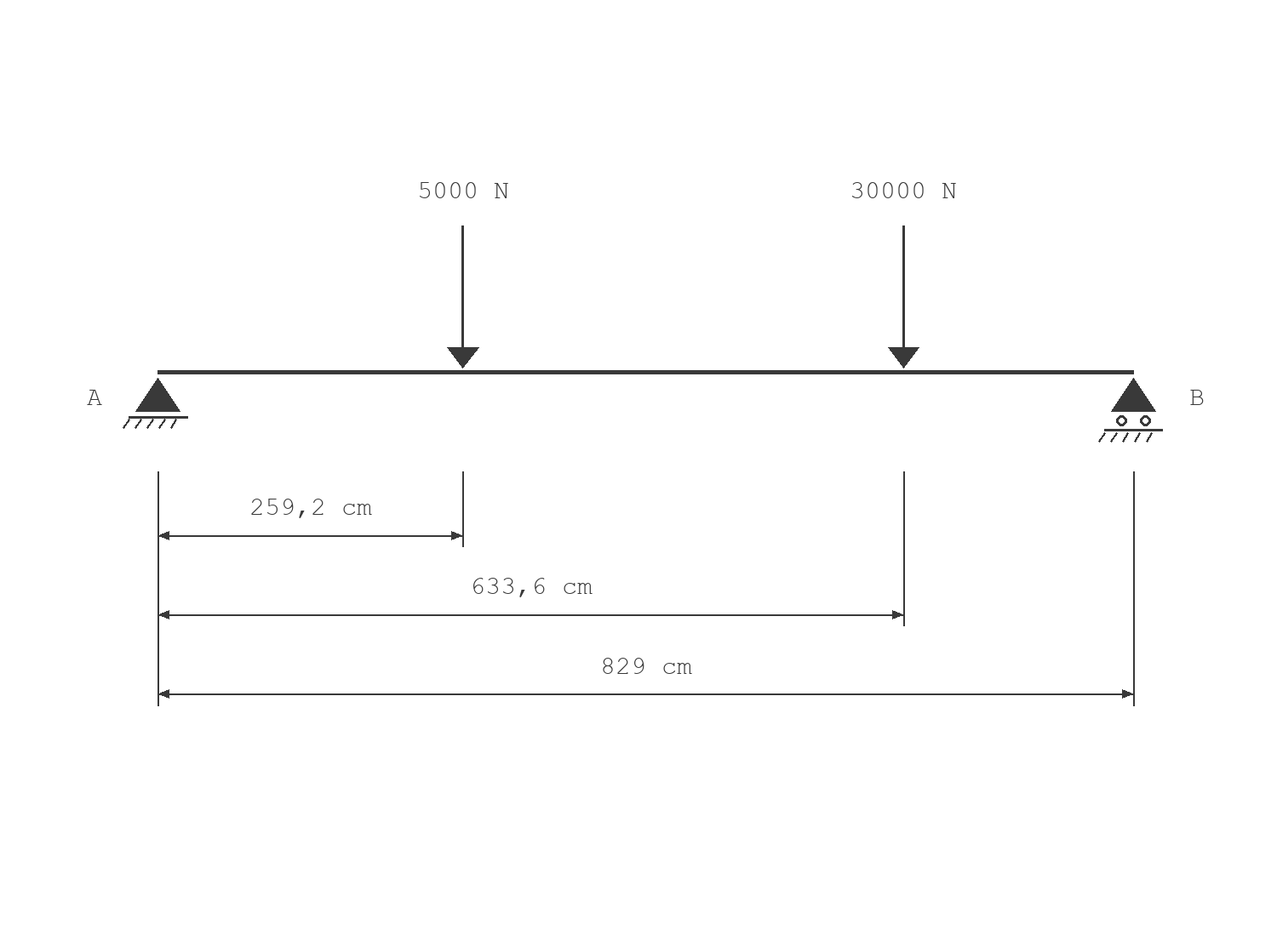pin_support: (123, 378, 188, 429)
point_load: (447, 225, 479, 368), (888, 225, 919, 368)
roller_support: (1098, 378, 1163, 442)
